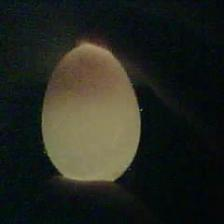infertile: (40, 41, 141, 185)
